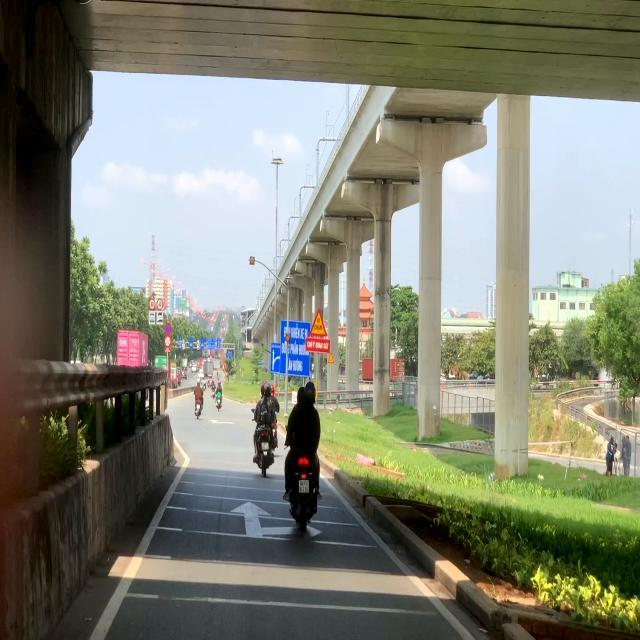Cam dung xe va do xe: (164, 322, 172, 335)
Di cham: (309, 307, 328, 338)
Toc do toi da cho phep: (156, 298, 164, 310), (149, 298, 156, 310)
